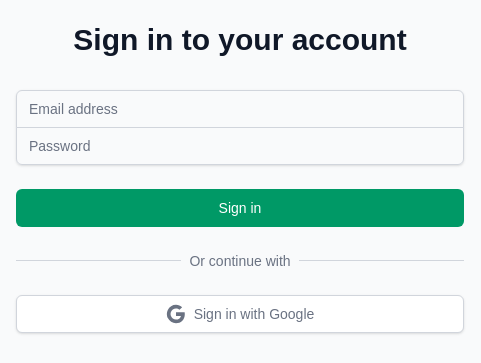
Test: LoginForm Component › Edge Cases › should display validation error for short password
Type "test@example.com" into the field labelled "Email address" at {"x": 240, "y": 108}, box [16,90,464,128]
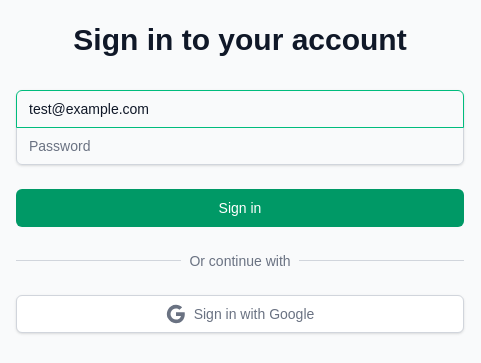
Type "12345" into the password field labelled "Password" at {"x": 240, "y": 146}, box [16,126,464,164]
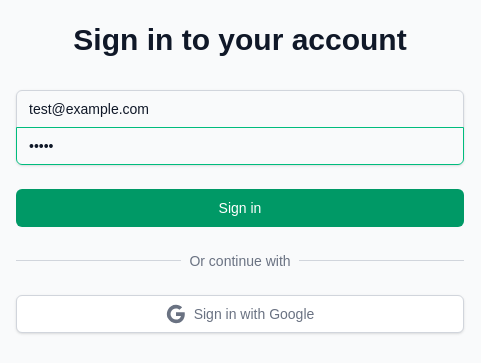
Click the button "Sign in" at {"x": 240, "y": 208}, box [16,188,464,226]
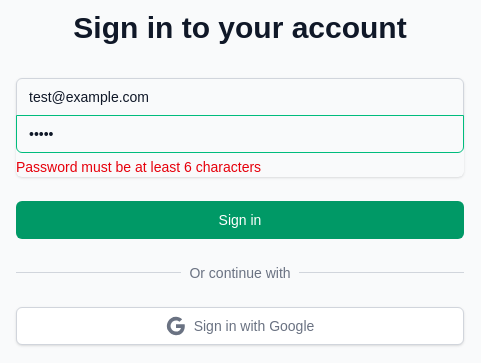
expect the text "Password must be at least 6 characters" is shown: met, box [16,158,261,174]
